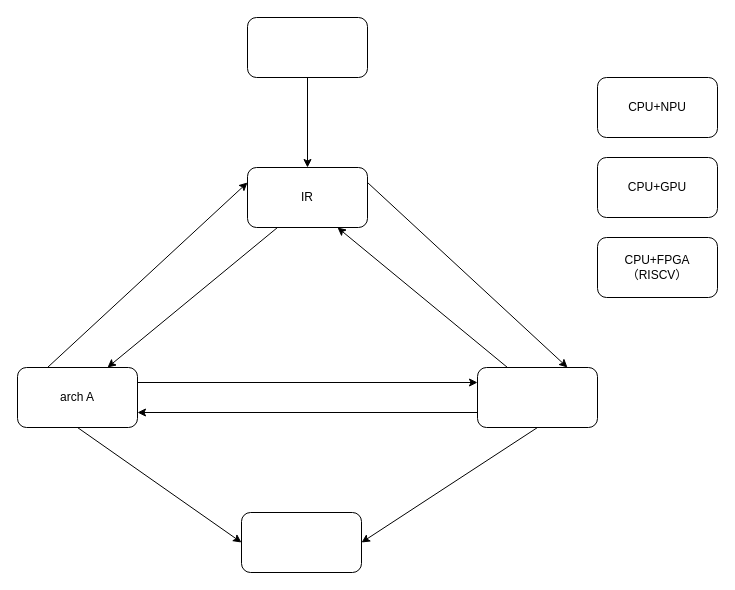
The diagram is 735 pixels wide and 590 high, and some of its shapes have lost their labels. Each missing label, with the box of its shape:
arch B: (476, 366, 598, 428)
evo: (246, 16, 368, 78)
Mem: (240, 512, 362, 572)
